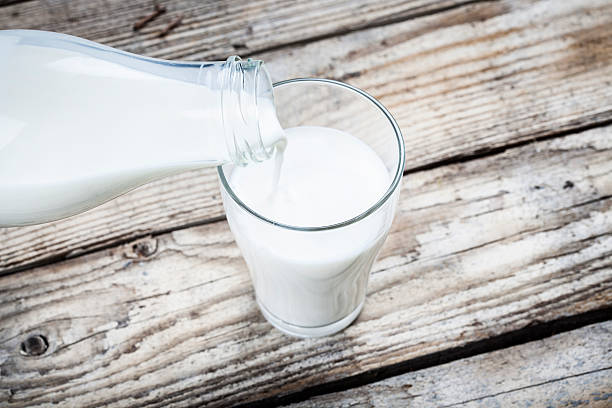glass of milk: (242, 124, 376, 339)
